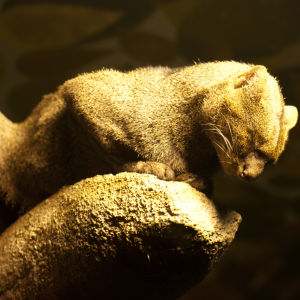Jaguarundi: (9, 56, 297, 187)
